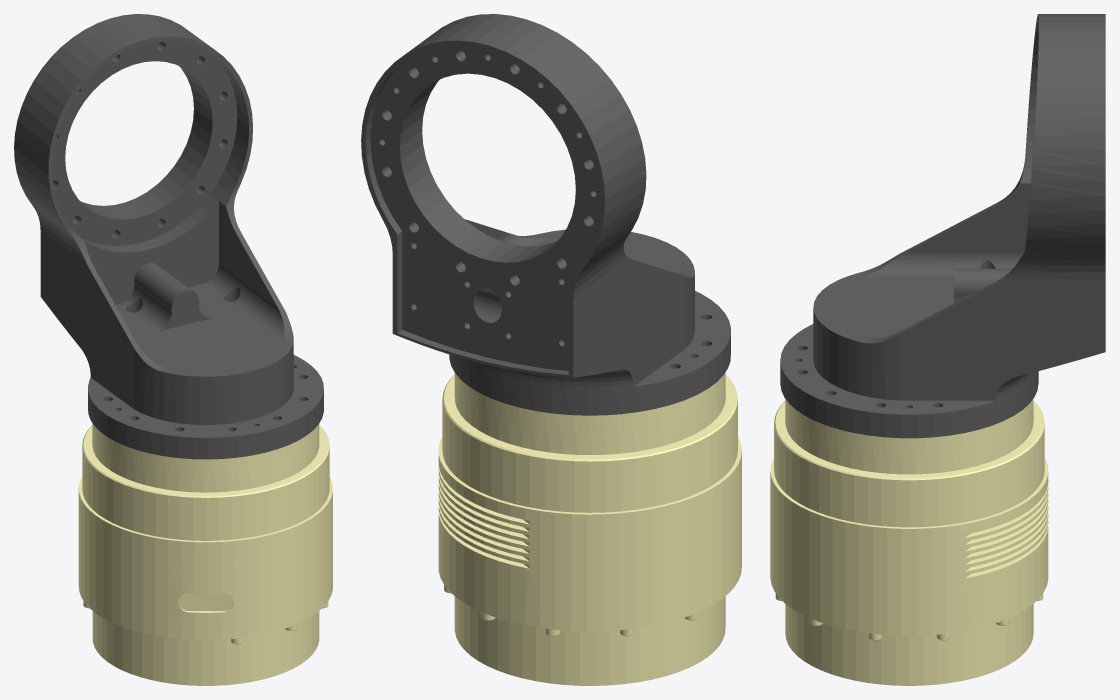
3 renders of one model, left to right at view 1: azimuth 30°, elevation 25°; view 2: azimuth 150°, elevation 25°; view 3: azimuth 270°, elevation 25°, orthographic. The views are drawn at different scales.
Parts seen in each view (by area): view 1: link3; view 2: link3; view 3: link3.
Part boxes in pixels (<box>): link3: <box>14,14,332,685</box>; link3: <box>361,14,741,685</box>; link3: <box>770,14,1105,685</box>.
Bounding box in the file's own units: 0.1119 × 0.135 × 0.2779.
